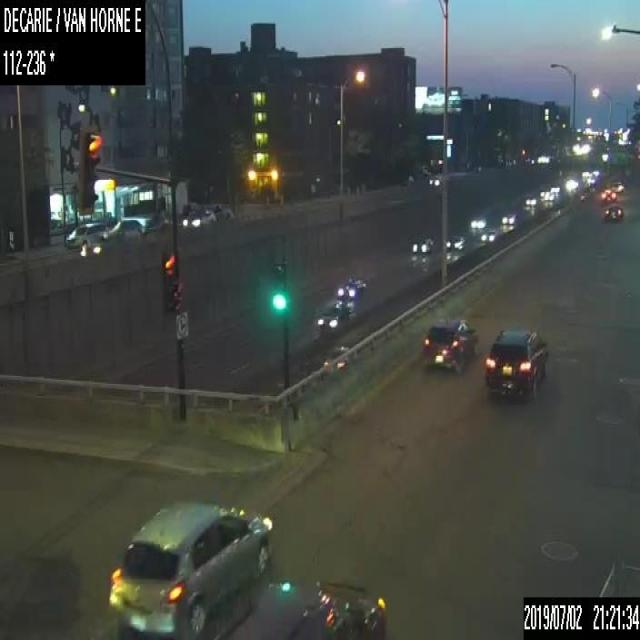vehicle: (106, 497, 271, 639), (211, 578, 385, 638), (485, 324, 547, 396), (421, 317, 475, 369), (316, 300, 356, 330), (63, 222, 108, 244), (102, 218, 145, 240), (337, 276, 368, 300), (322, 343, 349, 370), (181, 208, 214, 227), (412, 235, 434, 253), (205, 202, 224, 220), (446, 232, 466, 249), (479, 224, 498, 241), (604, 204, 622, 221), (469, 213, 485, 229), (600, 187, 615, 201), (428, 174, 442, 186), (501, 212, 515, 224), (524, 192, 537, 204), (611, 180, 623, 192), (543, 191, 554, 201)
